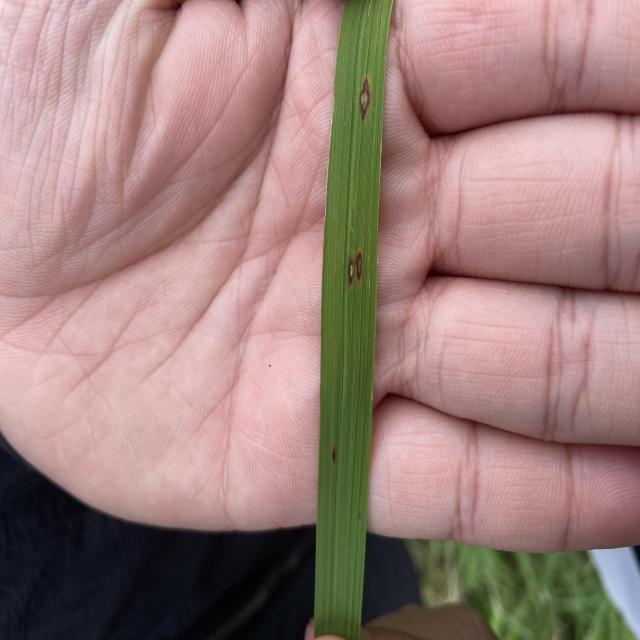Dao on: (355, 250, 363, 284), (347, 261, 354, 288)
